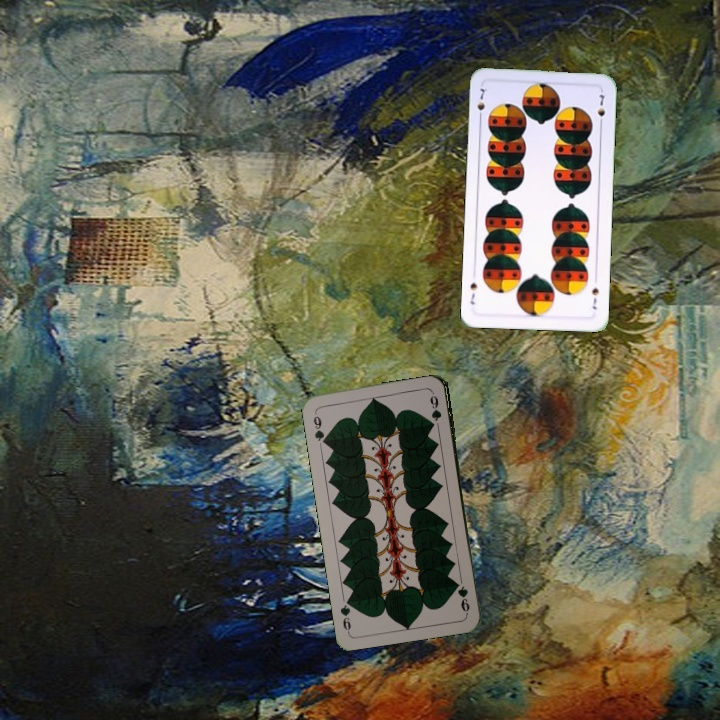G9: (309, 407, 330, 447), (454, 582, 472, 617)
S7: (473, 82, 489, 123), (588, 283, 601, 312)
